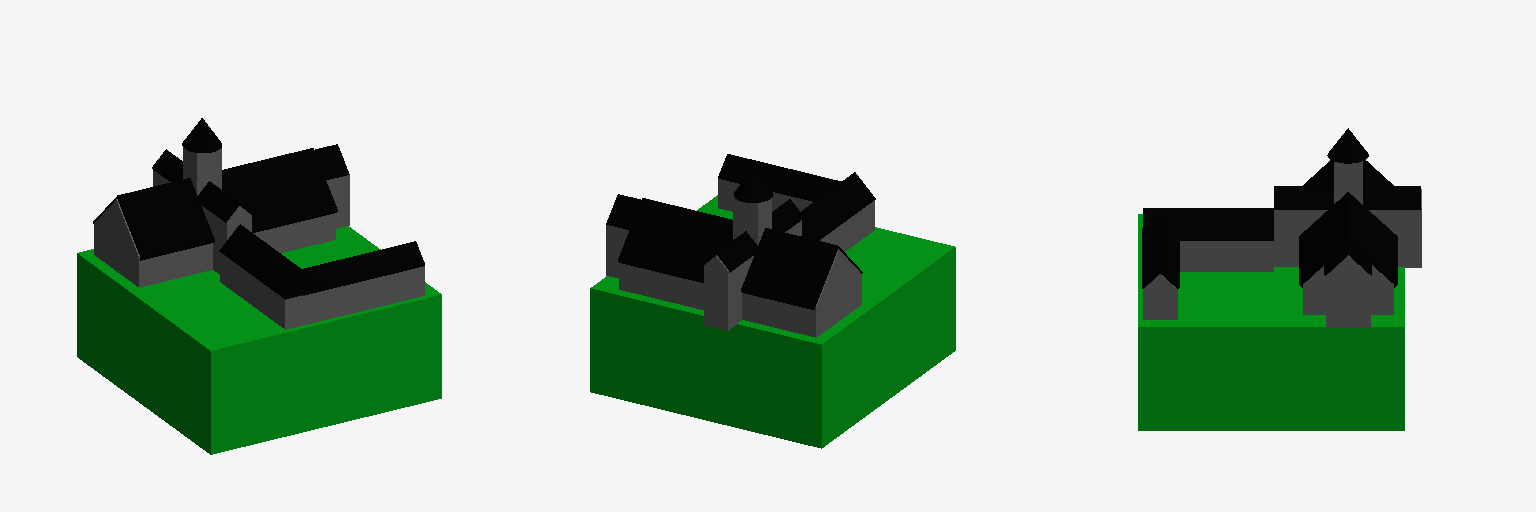
Rendered from abbaye.obj.
The picture shows the model from 3 angles: view 1: azimuth 30°, elevation 25°; view 2: azimuth 150°, elevation 25°; view 3: azimuth 270°, elevation 25°; orthographic projection.
Parts seen in each view (by area): view 1: Cube_Cube.001, abbaye, Cube.002_Cube.003, Cube.004_Cube.006, Cube.005_Cube.007, Cube.003_Cube.005, Cone, Cube.001_Cube.002; view 2: Cube_Cube.001, abbaye, Cube.002_Cube.003, Cube.004_Cube.006, Cube.005_Cube.007, Cube.003_Cube.005, Cone, Cube.001_Cube.002; view 3: Cube_Cube.001, abbaye, Cube.002_Cube.003, Cube.004_Cube.006, Cube.003_Cube.005, Cube.005_Cube.007, Cone, Cube.001_Cube.002.
Part boxes in pixels (bbox=[...]): Cube_Cube.001: bbox=[77, 226, 441, 454]; abbaye: bbox=[94, 147, 424, 329]; Cube.002_Cube.003: bbox=[93, 148, 337, 260]; Cube.004_Cube.006: bbox=[219, 224, 323, 299]; Cube.005_Cube.007: bbox=[302, 241, 424, 295]; Cube.003_Cube.005: bbox=[152, 149, 253, 222]; Cone: bbox=[182, 118, 221, 152]; Cube.001_Cube.002: bbox=[314, 144, 349, 179]; Cube_Cube.001: bbox=[590, 195, 955, 448]; abbaye: bbox=[606, 178, 874, 337]; Cube.002_Cube.003: bbox=[618, 198, 862, 309]; Cube.004_Cube.006: bbox=[801, 172, 875, 240]; Cube.005_Cube.007: bbox=[718, 154, 841, 201]; Cube.003_Cube.005: bbox=[703, 199, 804, 272]; Cone: bbox=[734, 167, 773, 202]; Cube.001_Cube.002: bbox=[606, 194, 640, 229]; Cube_Cube.001: bbox=[1138, 214, 1404, 430]; abbaye: bbox=[1143, 161, 1421, 327]; Cube.002_Cube.003: bbox=[1299, 160, 1397, 287]; Cube.004_Cube.006: bbox=[1143, 208, 1273, 240]; Cube.003_Cube.005: bbox=[1274, 186, 1420, 209]; Cube.005_Cube.007: bbox=[1142, 215, 1179, 288]; Cone: bbox=[1327, 128, 1368, 163]; Cube.001_Cube.002: bbox=[1324, 242, 1371, 275].
Bounding box in the file's own units: 47.24 × 45.89 × 50.02.